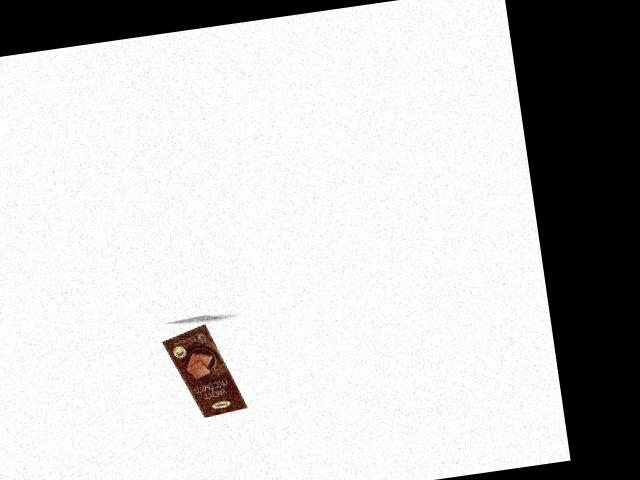chocolate: (157, 315, 249, 423)
